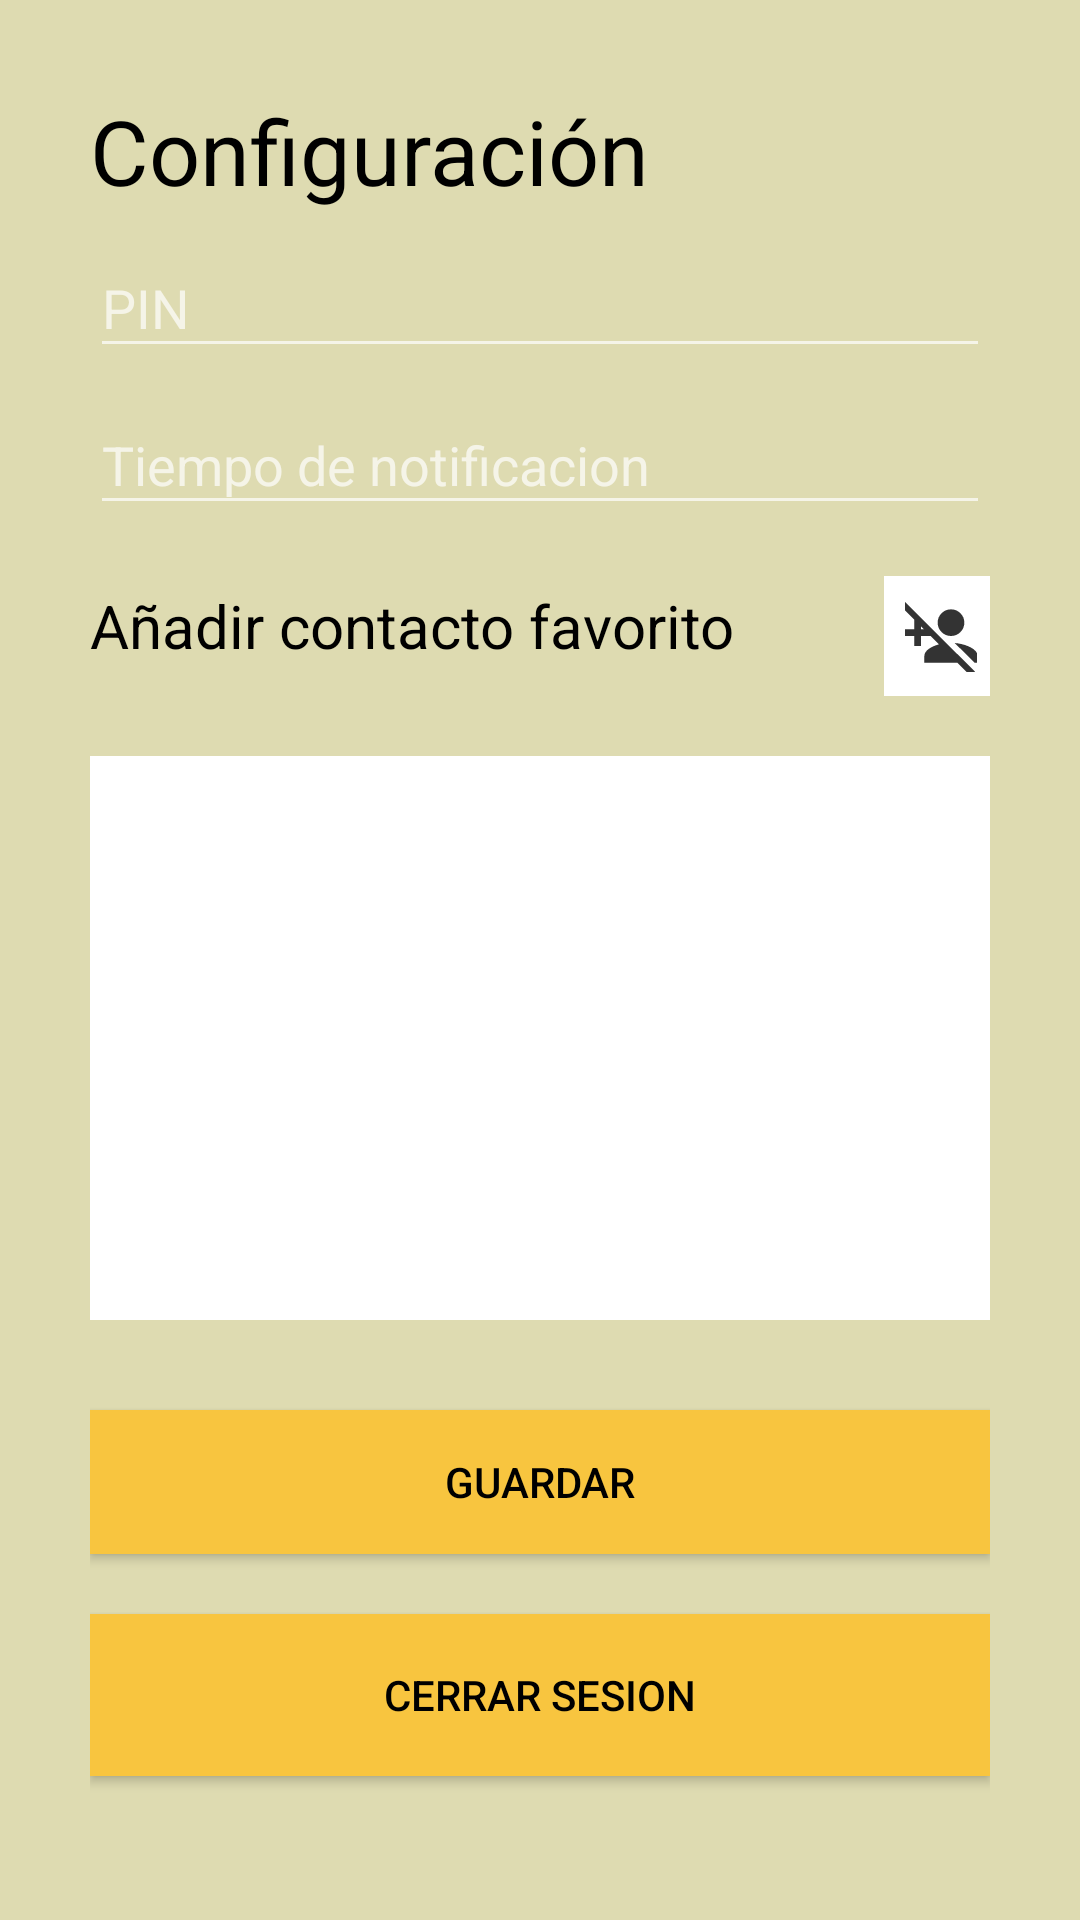

Where icons sit on this 1080×1920 app screen, as (x1, y1, x2, y2):
eliminar: (884, 576, 990, 696)
